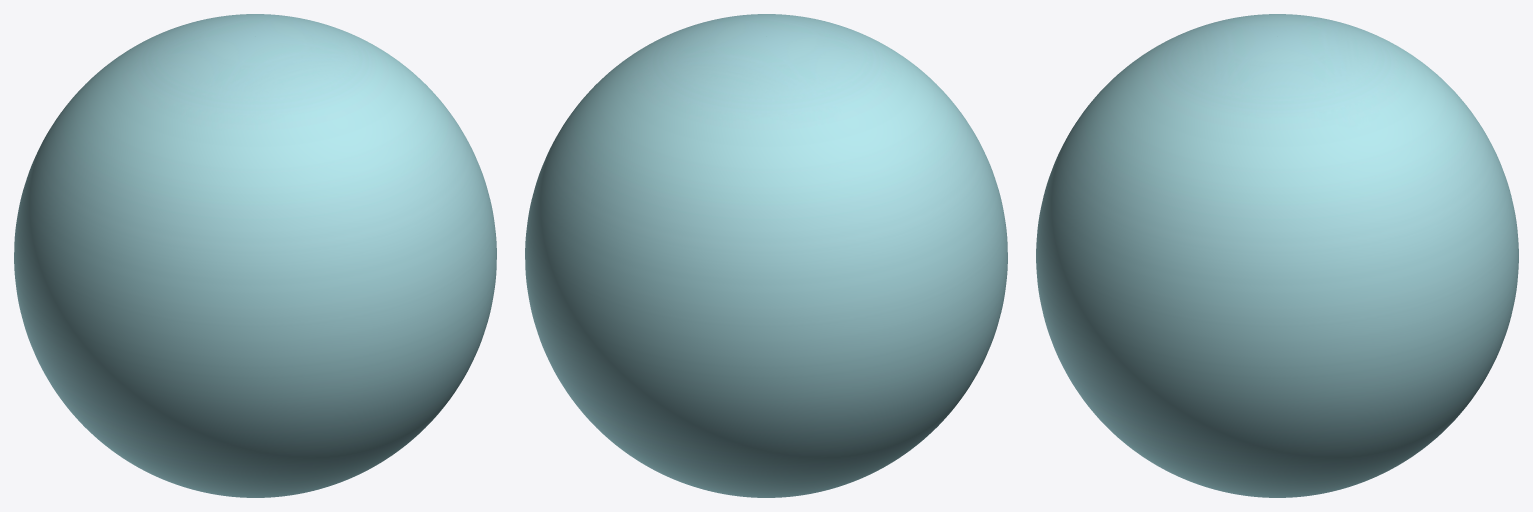
Rendered from uranus.glb.
The picture shows the model from 3 angles, left to right: view 1: azimuth 30°, elevation 25°; view 2: azimuth 150°, elevation 25°; view 3: azimuth 270°, elevation 25°; orthographic projection.
Visible parts, largest first — view 1: Uranus_Sphere.007; view 2: Uranus_Sphere.007; view 3: Uranus_Sphere.007.
Part boxes in pixels (box(x1,y1,x2,y2)): Uranus_Sphere.007: box(14, 14, 496, 497); Uranus_Sphere.007: box(525, 14, 1007, 497); Uranus_Sphere.007: box(1036, 14, 1518, 497).
Size of the model in its own units: 2.23 by 2.23 by 2.23.
Materials: 1 (1 with a texture image).
